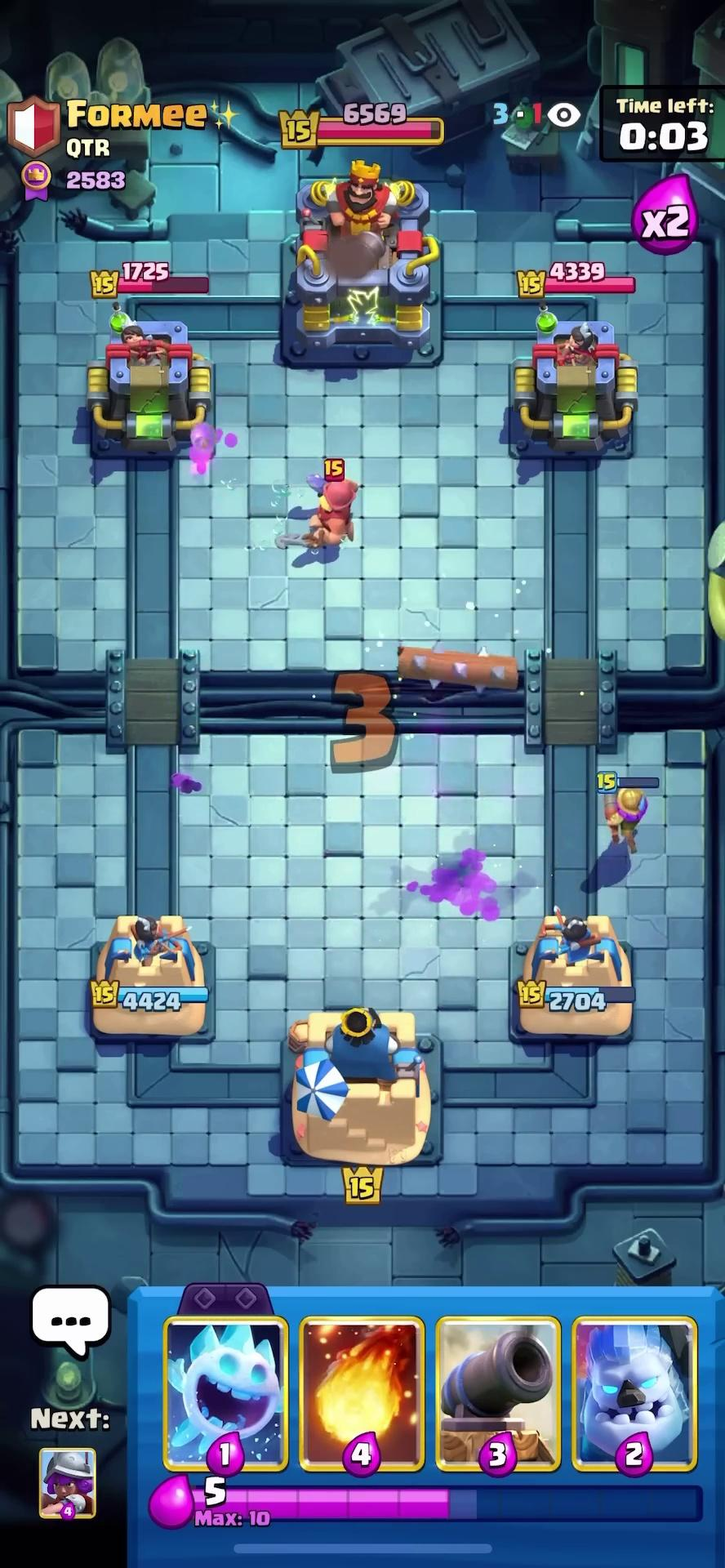log: (386, 631, 533, 702)
musketeer: (590, 764, 657, 847)
